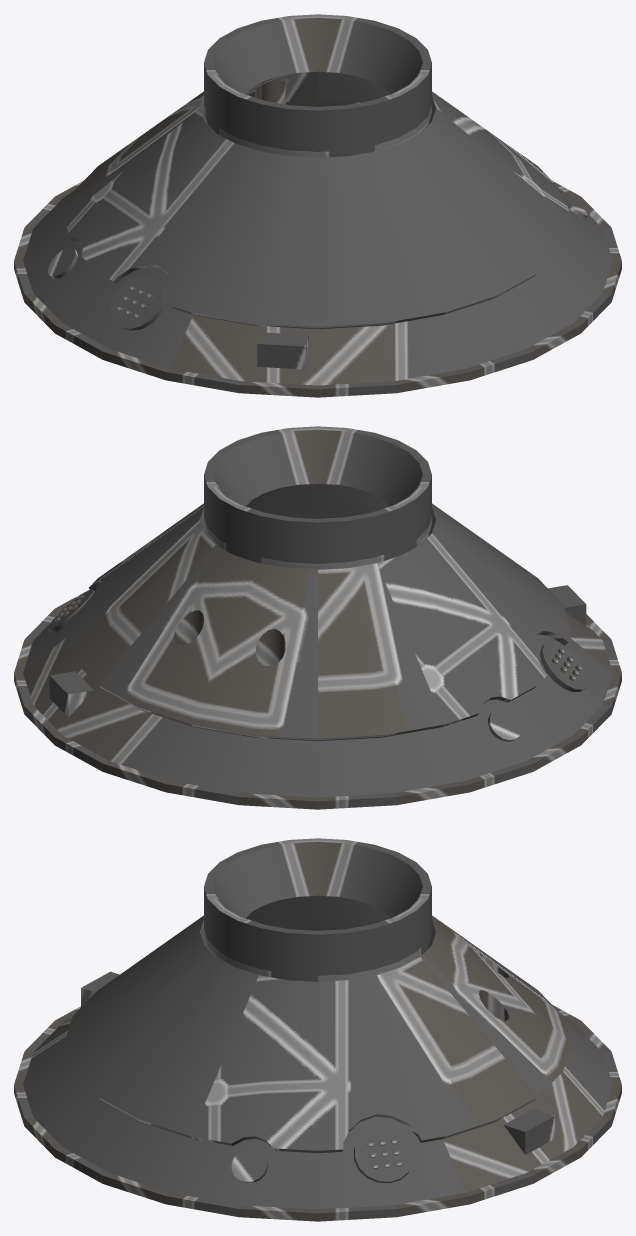
The model's file is big crew narrow adapter snoot.obj.
3 views of the same model, one above another, from view 1: azimuth 30°, elevation 25°; view 2: azimuth 150°, elevation 25°; view 3: azimuth 270°, elevation 25° (orthographic).
Visible parts, largest first — view 1: 1.007; view 2: 1.007; view 3: 1.007.
Part boxes in pixels (left/top/right/bottom): 1.007: left=14, top=14, right=621, bottom=397; 1.007: left=14, top=426, right=621, bottom=809; 1.007: left=14, top=838, right=621, bottom=1221.
Bounding box in the file's own units: 2.5 × 0.9375 × 2.5.
